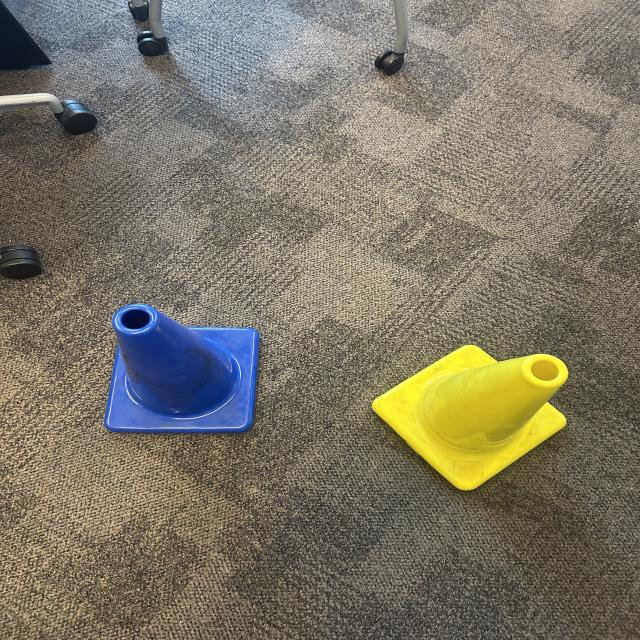blue_cone: (83, 294, 280, 444)
yellow_cone: (345, 318, 587, 496)
